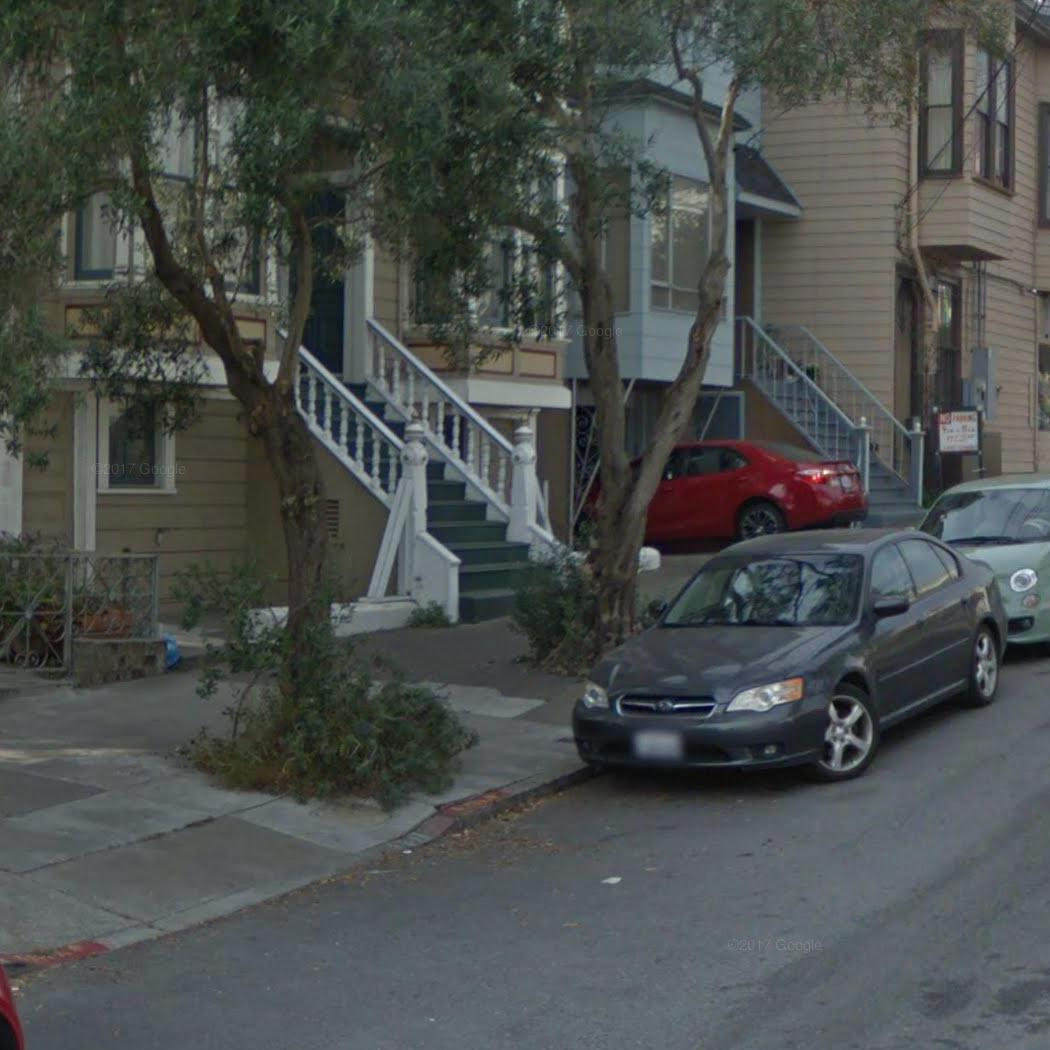No Parking: (933, 402, 985, 458)
